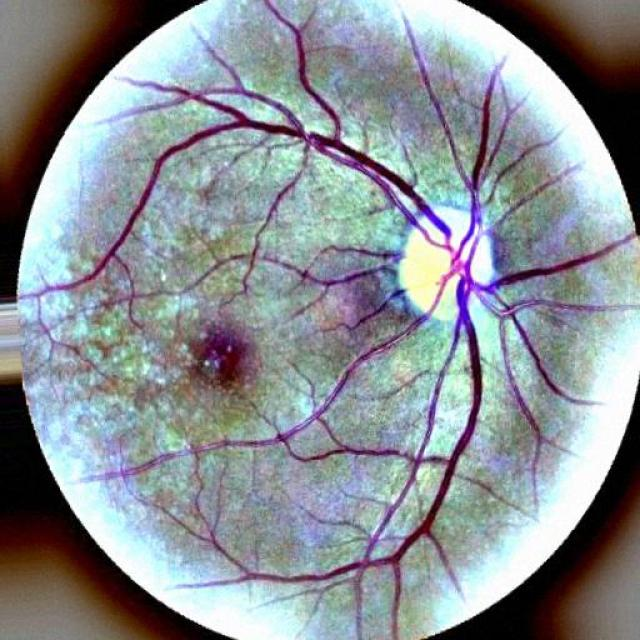Macula: (191, 324, 249, 385)
Nerves: (18, 0, 639, 639)
Optic Disk: (394, 206, 498, 338)
